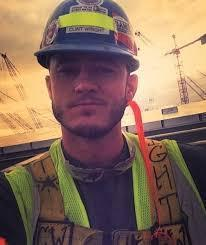helmet: (33, 1, 140, 70)
